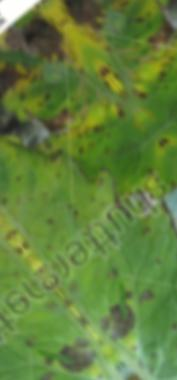Tomato leaf bacterial spot: (0, 16, 177, 380), (0, 3, 177, 258)
